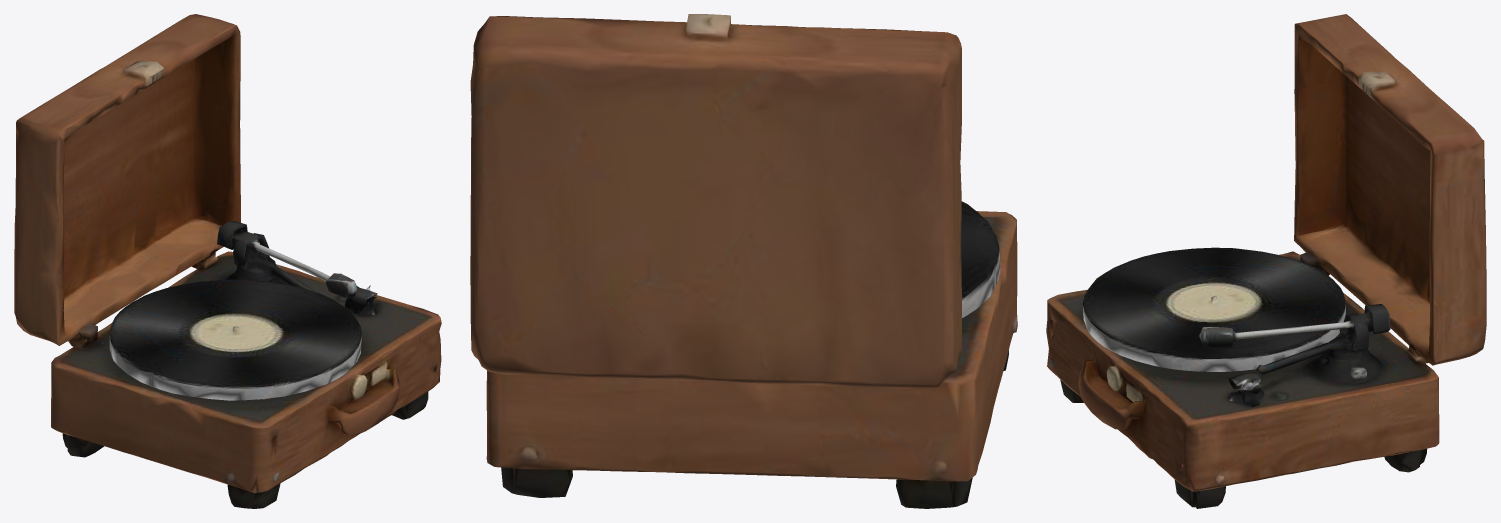
Rendered from turntable-v2.glb.
3 renders of one model, left to right at view 1: azimuth 30°, elevation 25°; view 2: azimuth 150°, elevation 25°; view 3: azimuth 270°, elevation 25°, orthographic. The views are drawn at different scales.
Visible parts, largest first — view 1: prop__turntable; view 2: prop__turntable; view 3: prop__turntable.
Boxes of the visible parts, box(x1,y1,x2,y2) form: prop__turntable: box(14, 14, 441, 508); prop__turntable: box(470, 14, 1017, 508); prop__turntable: box(1046, 14, 1486, 508).
Bounding box in the file's own units: 0.2264 × 0.2 × 0.2375.
1 material, 1 textured.
